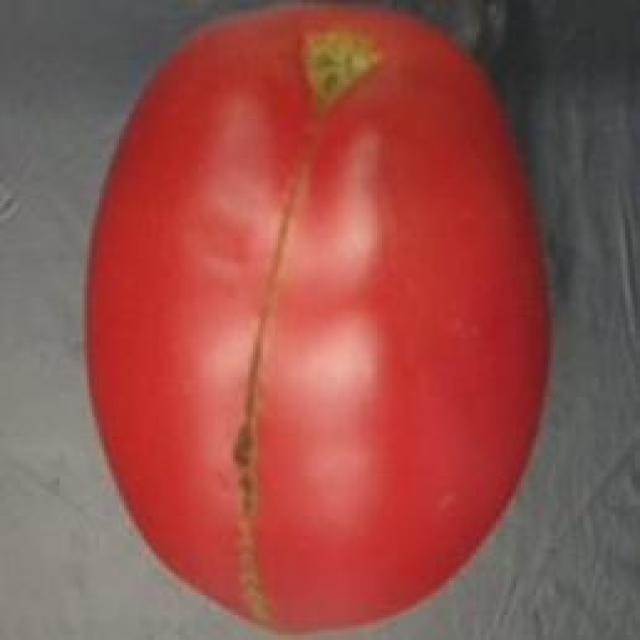overripe tomato: (72, 0, 558, 640)
